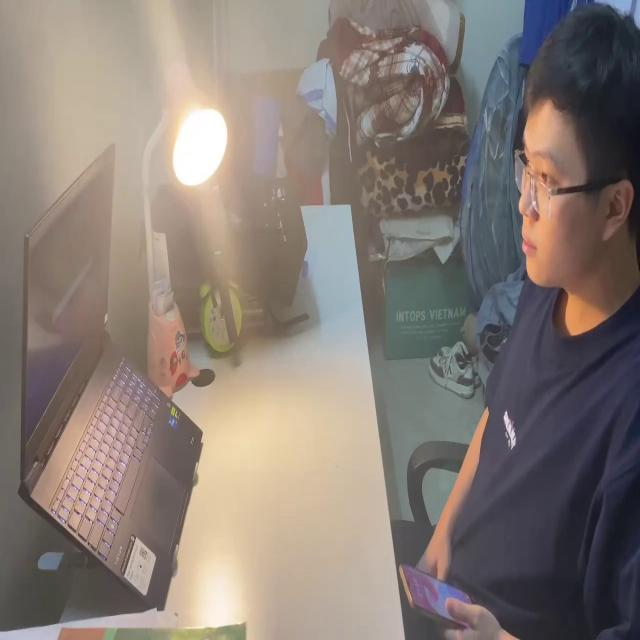book: (2, 593, 246, 640)
laptop: (14, 140, 202, 605)
phone: (400, 558, 486, 620)
student: (389, 4, 639, 640)
